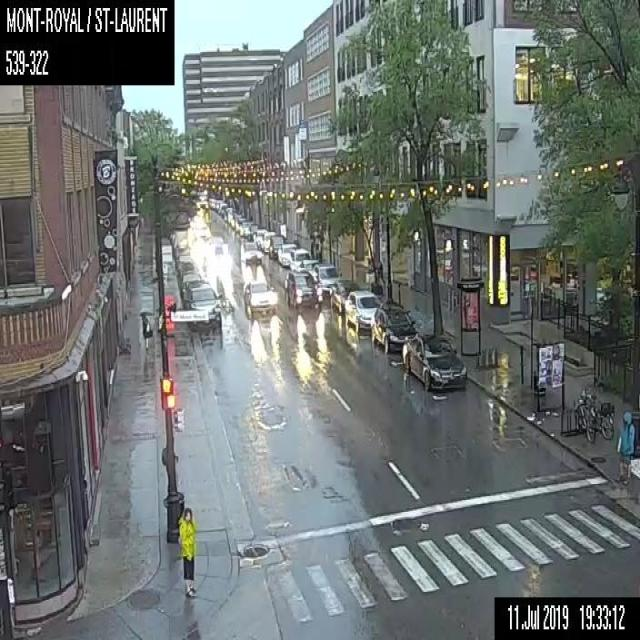construction: (164, 292, 174, 335)
pedestrian: (178, 504, 198, 600), (616, 408, 636, 485), (140, 306, 153, 346)
vehicle: (402, 332, 467, 391), (370, 305, 414, 351), (185, 281, 222, 330), (344, 290, 380, 332), (243, 277, 280, 315), (284, 270, 321, 307), (330, 278, 359, 312), (312, 263, 339, 297), (238, 240, 262, 266), (180, 271, 202, 298), (288, 248, 310, 271), (277, 242, 297, 266), (176, 254, 194, 280), (172, 236, 190, 260), (268, 235, 283, 258), (253, 227, 268, 250), (261, 230, 276, 252), (208, 235, 223, 255), (297, 258, 319, 271), (244, 222, 258, 239), (240, 220, 252, 237), (234, 217, 247, 231), (230, 213, 241, 228), (227, 208, 236, 223), (218, 202, 226, 214), (224, 207, 232, 219), (208, 197, 216, 208), (214, 199, 222, 209)
